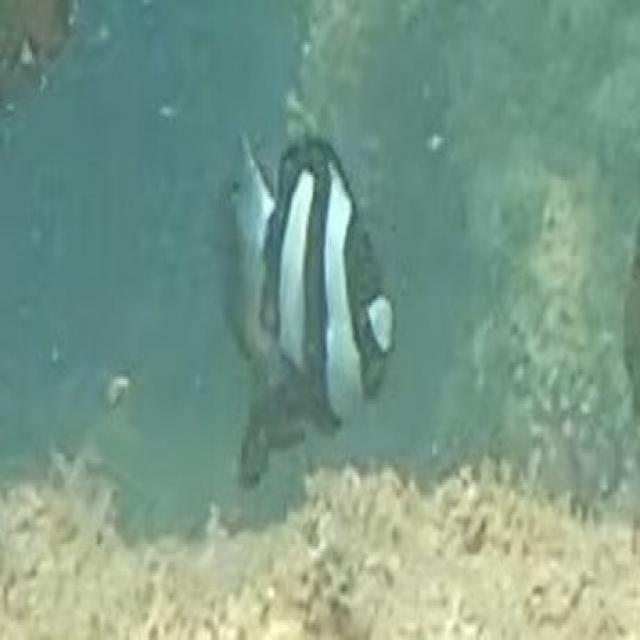Three_striped DasmselFish: (234, 127, 397, 487)
